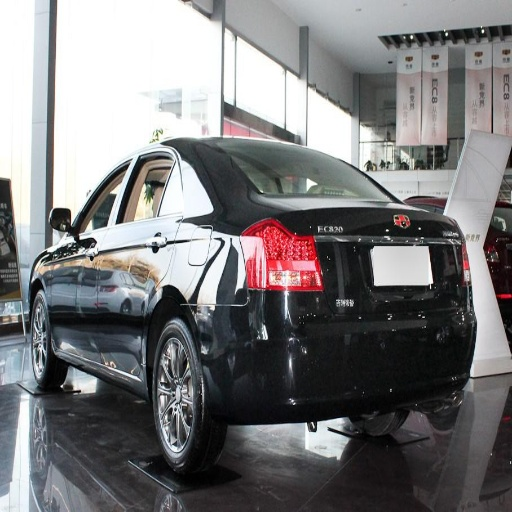back_bumper: (202, 289, 483, 406)
back_glass: (231, 147, 388, 198)
back_left_door: (98, 146, 183, 368)
tailgate: (275, 198, 453, 319)
trunk: (383, 260, 452, 361)
